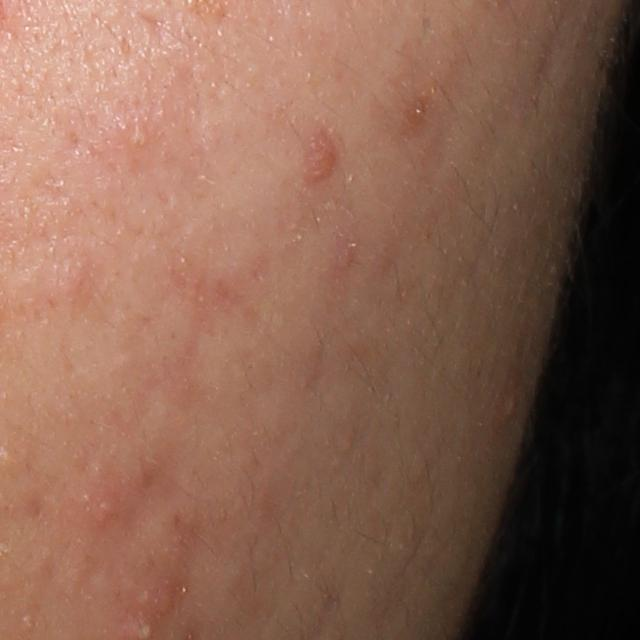atrophic_scar: (130, 1, 188, 48)
papule: (73, 480, 123, 536), (302, 125, 346, 185)
